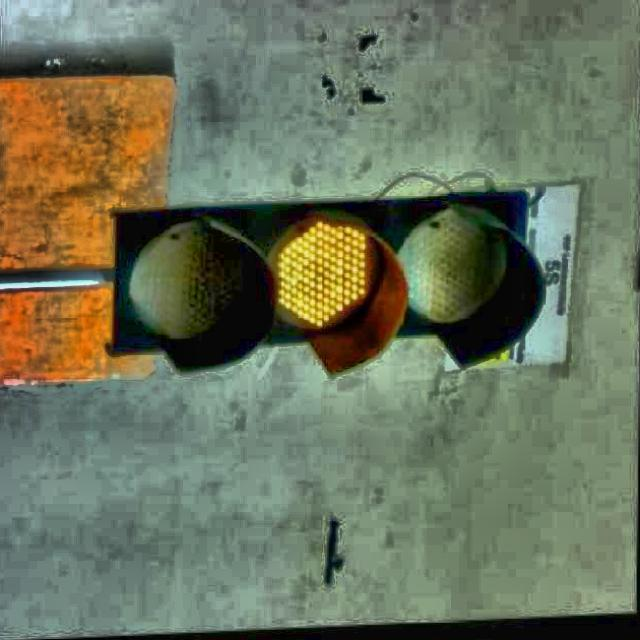yellow: (112, 194, 546, 360)
